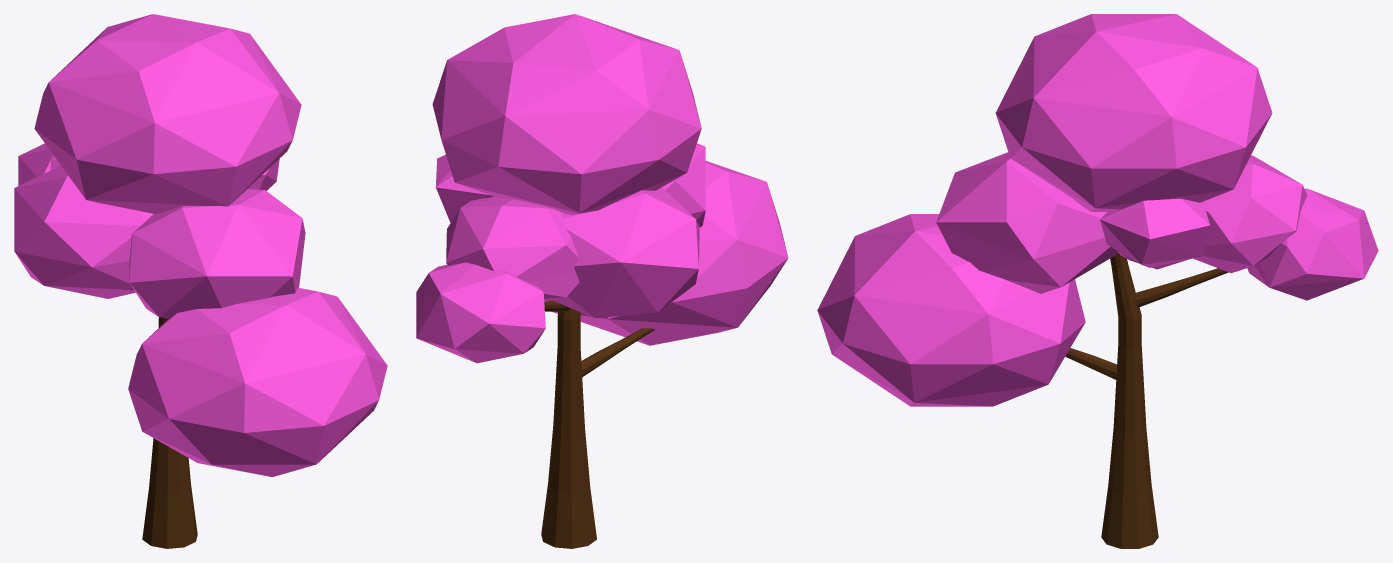
File: Maple_Tree_Tall_004.fbx
The picture shows the model from 3 angles, left to right: view 1: azimuth 30°, elevation 25°; view 2: azimuth 150°, elevation 25°; view 3: azimuth 270°, elevation 25°; orthographic projection.
Visible parts, largest first — view 1: Maple Tree Tall.004; view 2: Maple Tree Tall.004; view 3: Maple Tree Tall.004.
Boxes of the visible parts, <box> form: Maple Tree Tall.004: <box>14,14,387,548</box>; Maple Tree Tall.004: <box>416,14,788,548</box>; Maple Tree Tall.004: <box>817,14,1378,548</box>.
Size of the model in its own units: 222 by 406 by 404.
